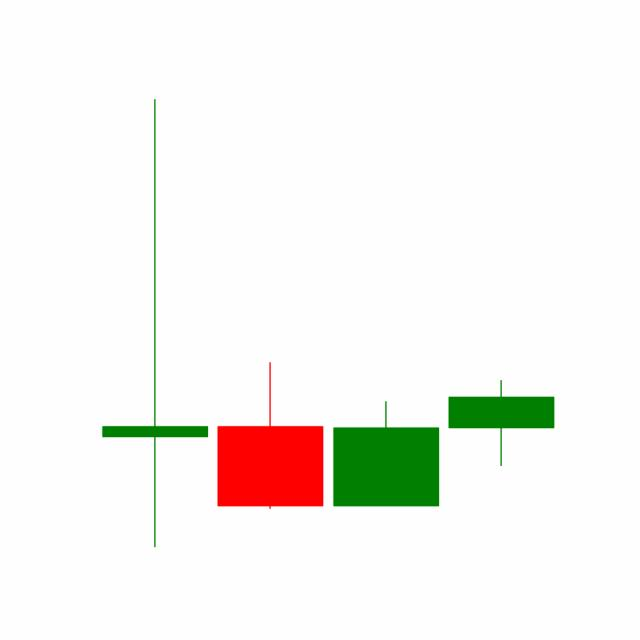Hanging Man: (443, 379, 559, 467)
